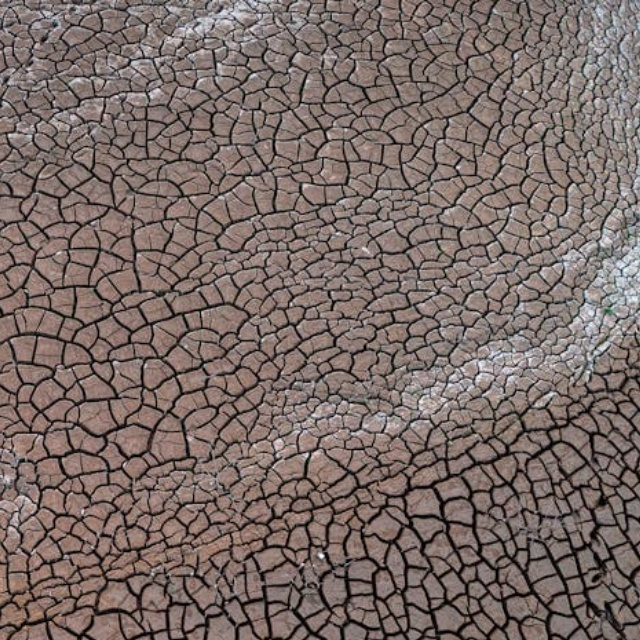网状裂隙: (475, 216, 640, 640)
